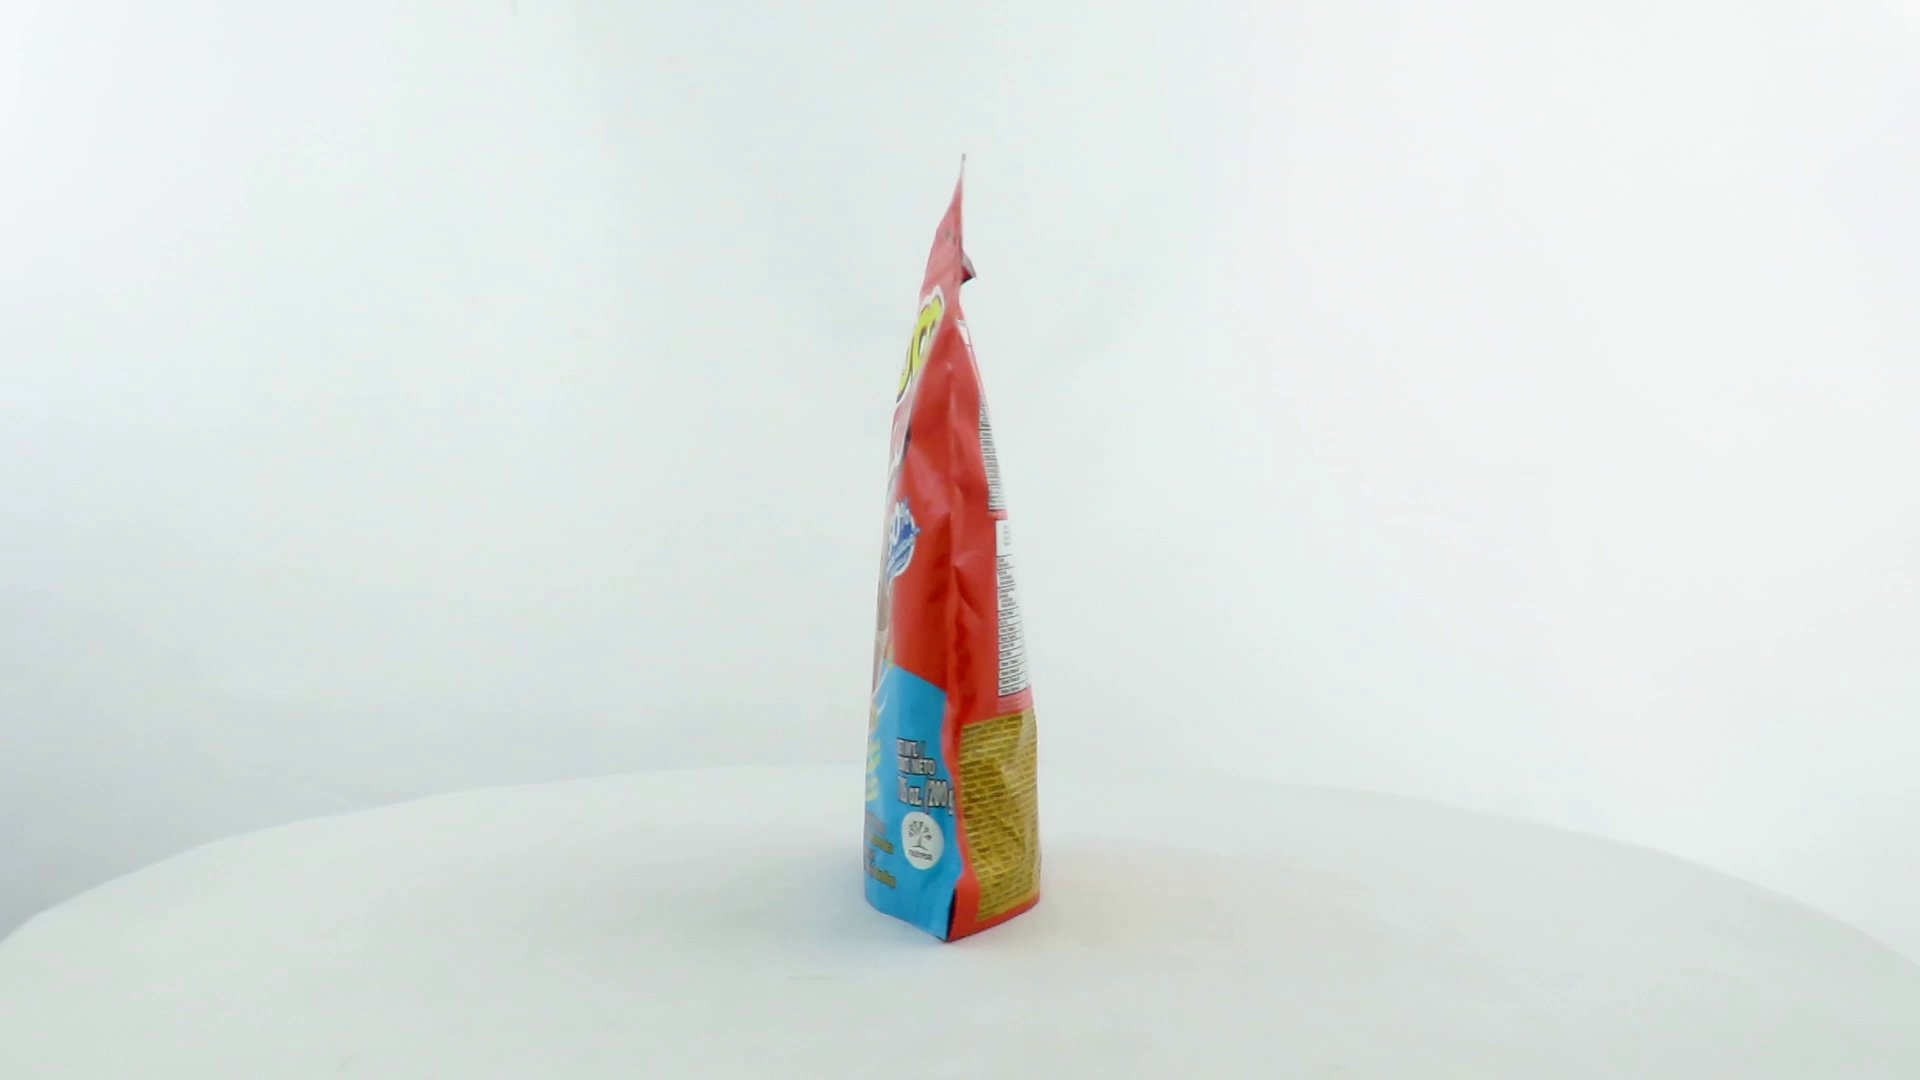COL0170104DYP20000: (858, 149, 1048, 949)
